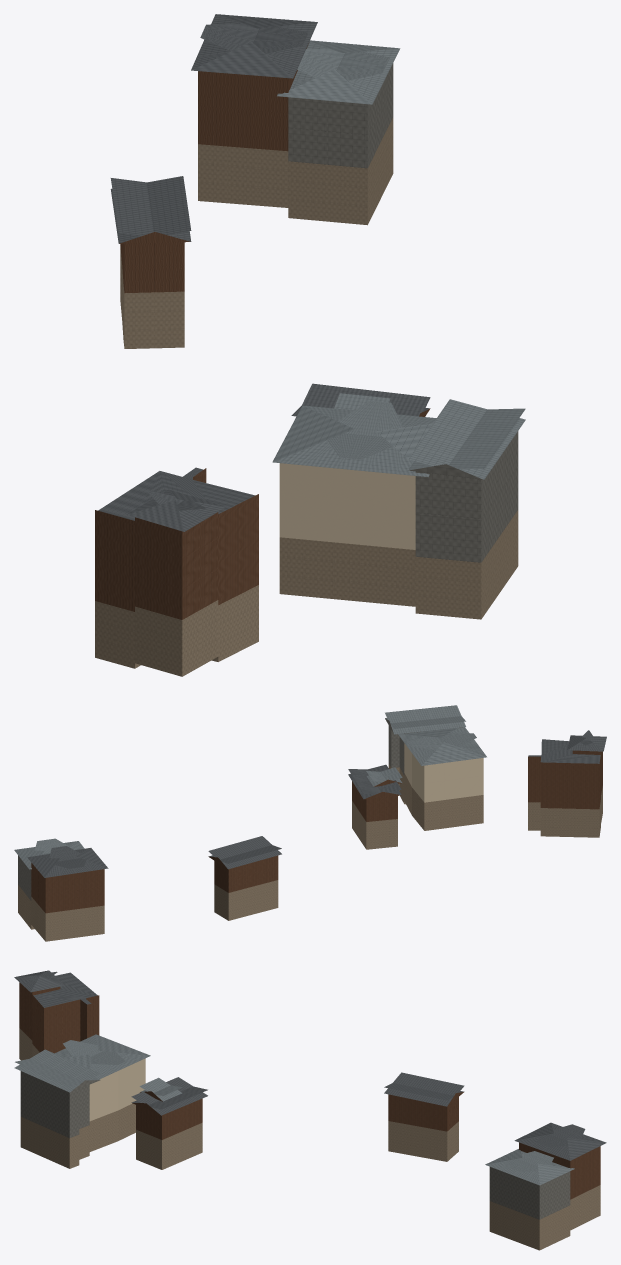
The model's file is bld_c-3_17_535.gltf.
3 views of the same model, one above another, from view 1: azimuth 30°, elevation 25°; view 2: azimuth 150°, elevation 25°; view 3: azimuth 270°, elevation 25° (orthographic). The views are drawn at different scales.
Visible parts, largest first — view 1: bld_c-3_17_535; view 2: bld_c-3_17_535; view 3: bld_c-3_17_535.
Boxes of the visible parts, box(x1,y1,x2,y2) form: bld_c-3_17_535: box(95, 14, 525, 676); bld_c-3_17_535: box(14, 705, 606, 941); bld_c-3_17_535: box(14, 970, 606, 1250).
Size of the model in its own units: 69.39 by 16.6 by 89.05.
8 materials, 8 textured.
